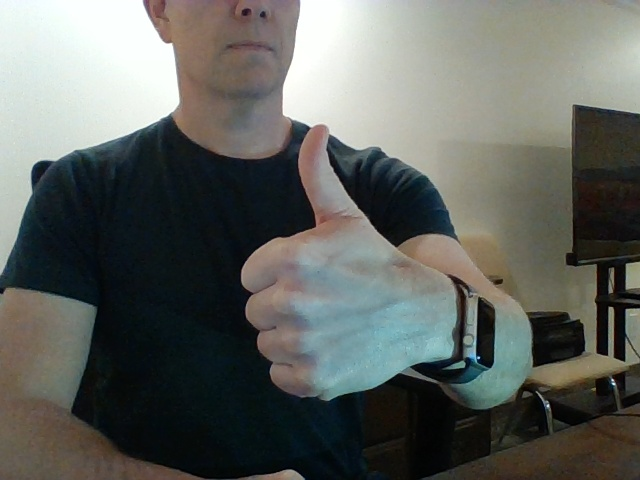ThumbsUp: (239, 125, 426, 401)
